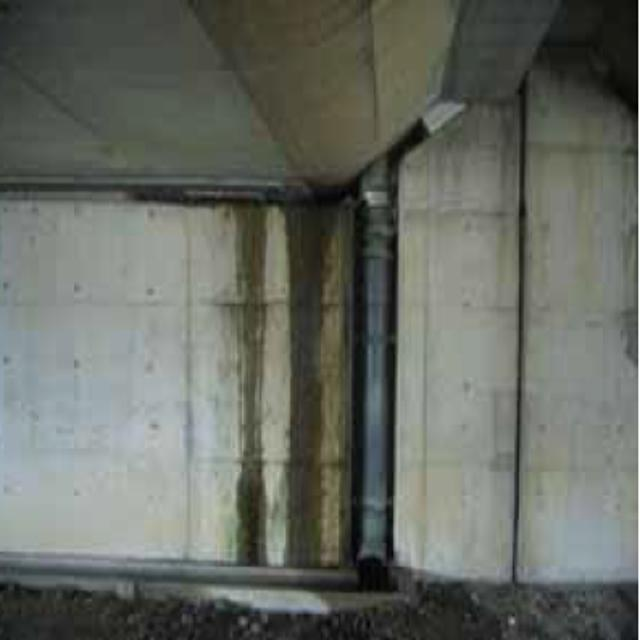leakage: (233, 194, 364, 566)
